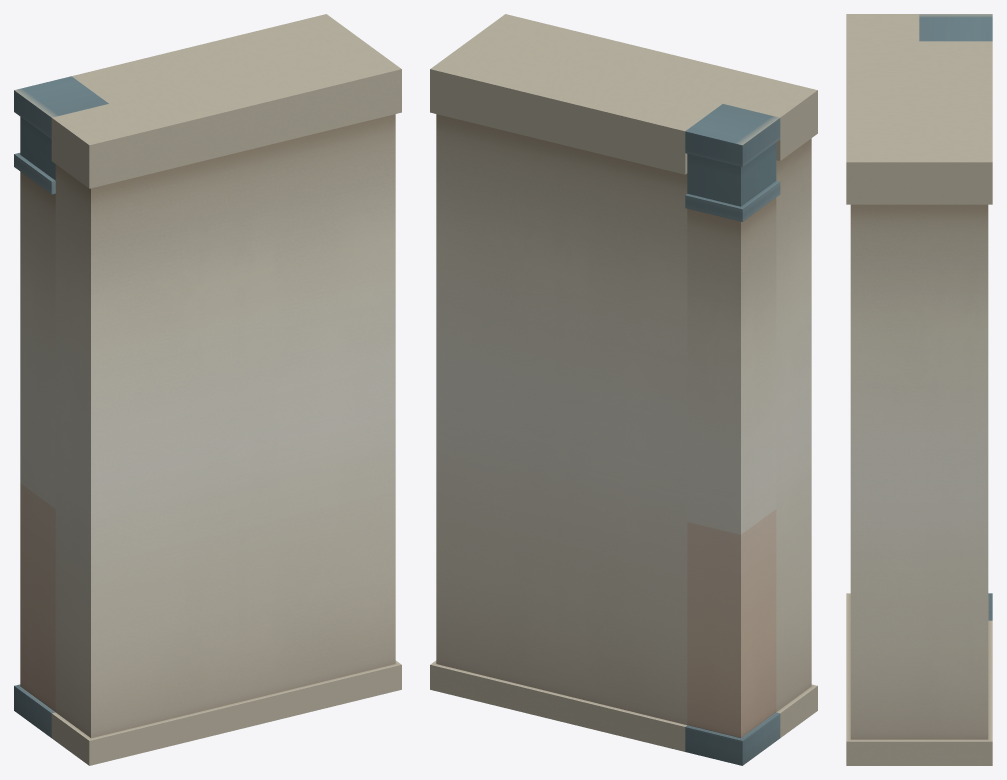
File: SHW_Pillar_01_10.fbx
3 renders of one model, left to right at view 1: azimuth 30°, elevation 25°; view 2: azimuth 150°, elevation 25°; view 3: azimuth 270°, elevation 25°, orthographic. The views are drawn at different scales.
Visible parts, largest first — view 1: shw_pillar_01_10; view 2: shw_pillar_01_10; view 3: shw_pillar_01_10.
Boxes of the visible parts, x1,y1,x2,y2 form: shw_pillar_01_10: (14, 14, 401, 765); shw_pillar_01_10: (430, 14, 817, 765); shw_pillar_01_10: (846, 14, 992, 765).
Size of the model in its own units: 158 by 300 by 66.
